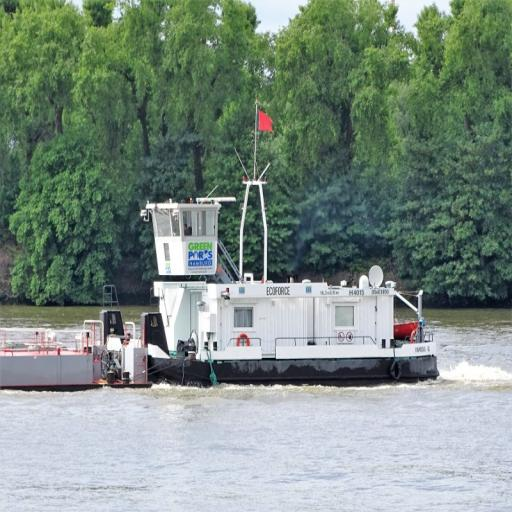tugboat: (88, 178, 450, 396)
